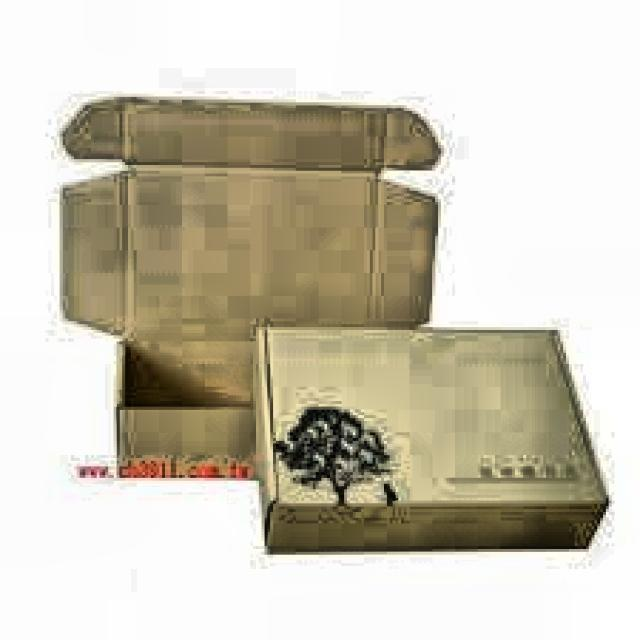cardboard: (250, 324, 609, 552)
